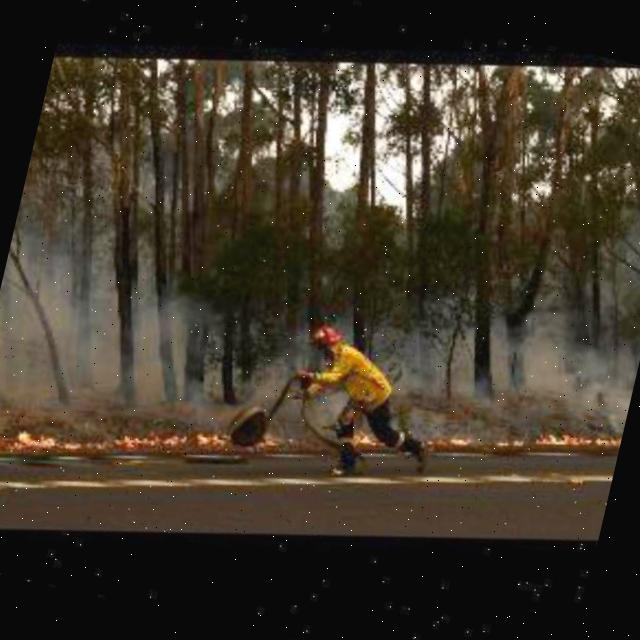fire: (531, 406, 625, 472), (7, 410, 88, 458), (119, 414, 193, 456), (427, 423, 477, 453), (196, 422, 231, 446)
